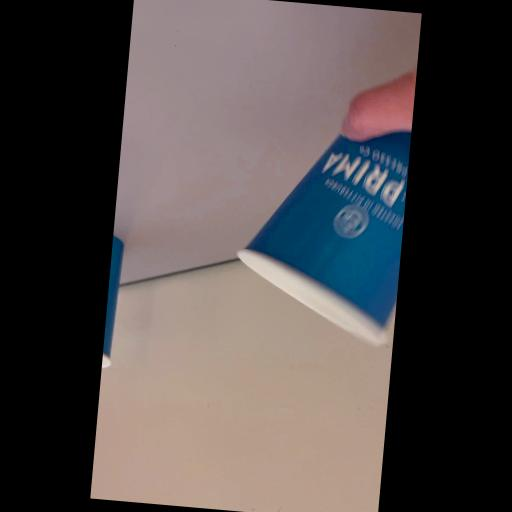lp_paper_cup: (231, 116, 412, 342), (102, 233, 126, 371)
